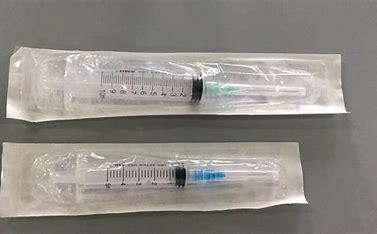Syringe: (29, 61, 314, 105), (42, 158, 284, 189)
